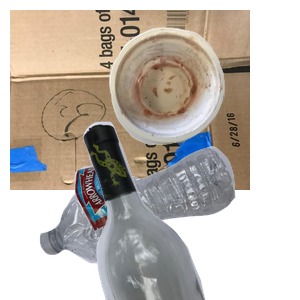cardboard: (10, 10, 250, 190)
glass: (81, 120, 300, 300)
plastic: (37, 144, 265, 300)
trash: (107, 25, 300, 162)
